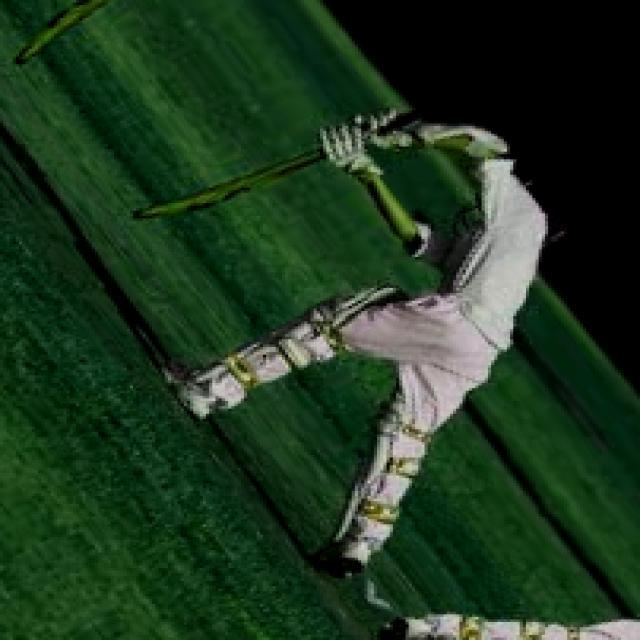bat: (126, 148, 331, 233)
toe: (125, 208, 146, 228)
